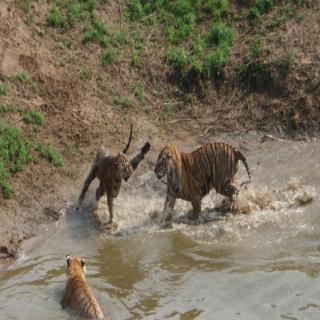Tiger: (153, 140, 251, 222), (75, 143, 134, 224), (58, 250, 102, 320)
